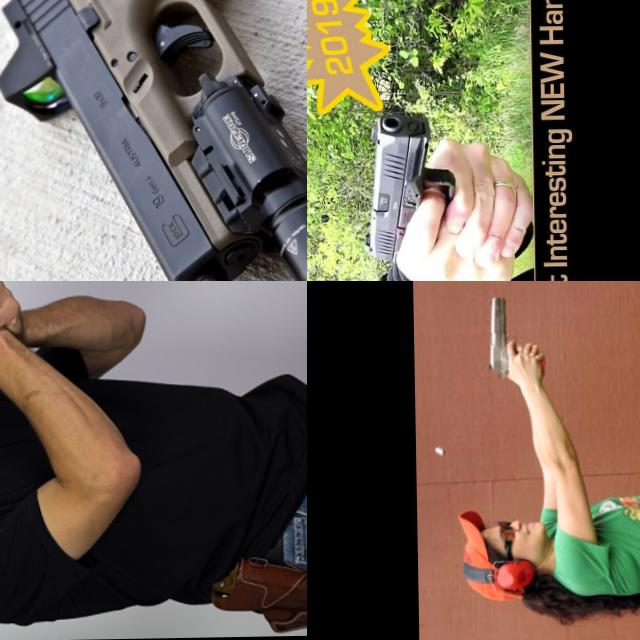handgun: (0, 0, 307, 281), (358, 108, 459, 266), (0, 281, 50, 359), (484, 292, 519, 382)
